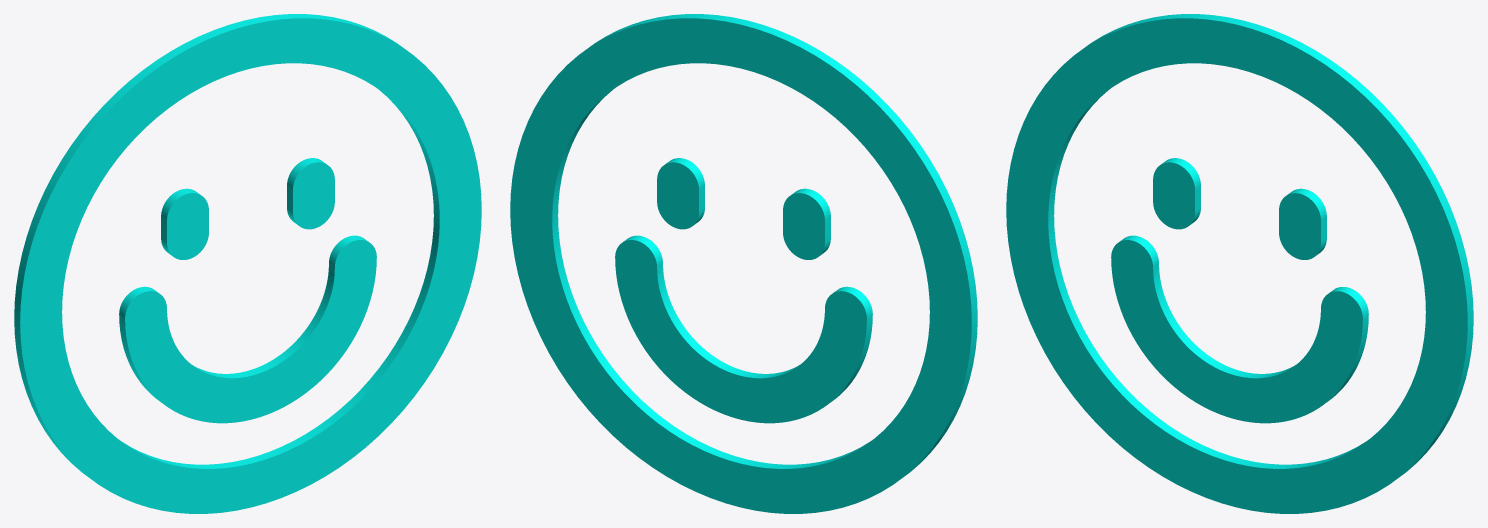
Rendered from smileFace3.glb.
The picture shows the model from 3 angles, left to right: view 1: azimuth 30°, elevation 25°; view 2: azimuth 150°, elevation 25°; view 3: azimuth 330°, elevation 25°; orthographic projection.
Visible parts, largest first — view 1: Curve; view 2: Curve; view 3: Curve.
Boxes of the visible parts, x1,y1,x2,y2 form: Curve: [14, 14, 481, 513]; Curve: [510, 14, 977, 513]; Curve: [1006, 14, 1473, 513].
Size of the model in its own units: 7.02 by 7.01 by 0.1559.
